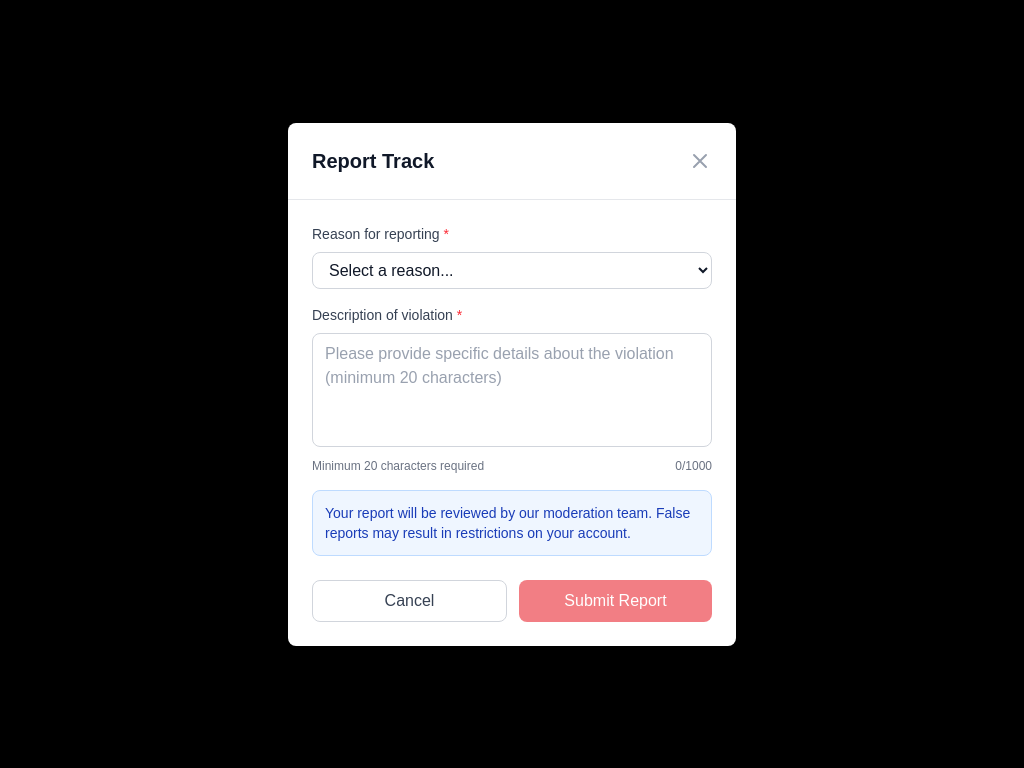
Scenario: ReportModal - Timestamp Validation › Invalid Formats › should reject invalid format (no colon)
The image size is (1024, 768).
Select hate speech
Select "Hate Speech" in the dropdown labelled "Reason for reporting *": coordinates (512, 270) [312,252,712,288]
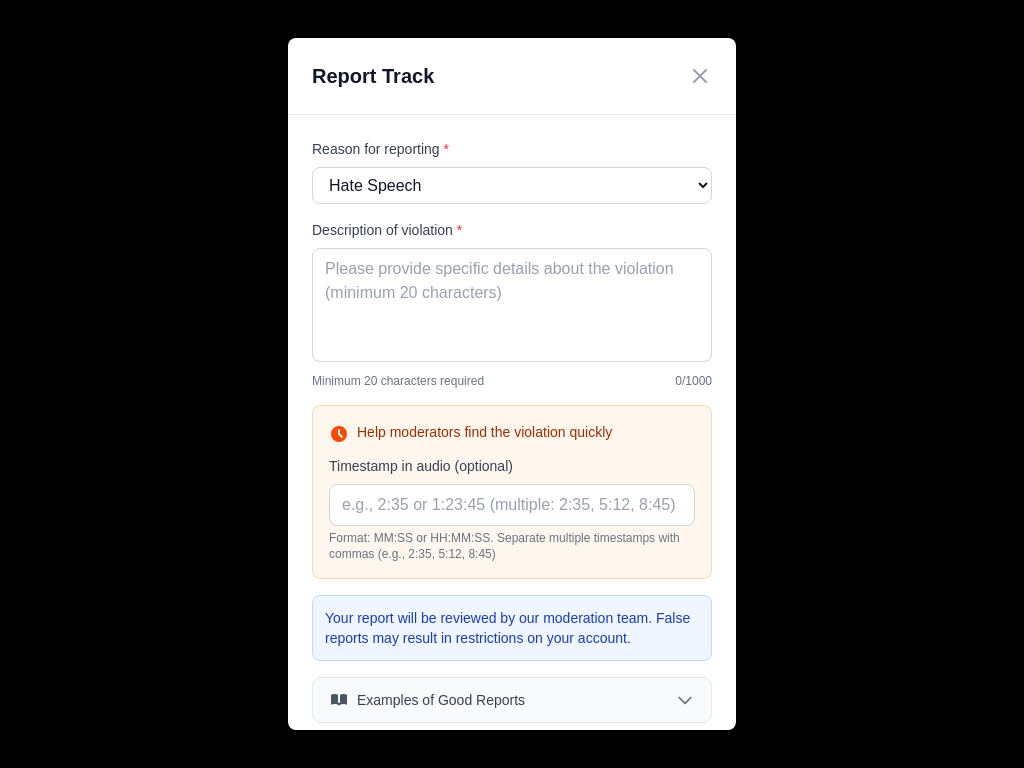
Enter invalid timestamp
In the field labelled "Timestamp in audio (optional)": coordinates (512, 505) [329,484,695,526], type "235"
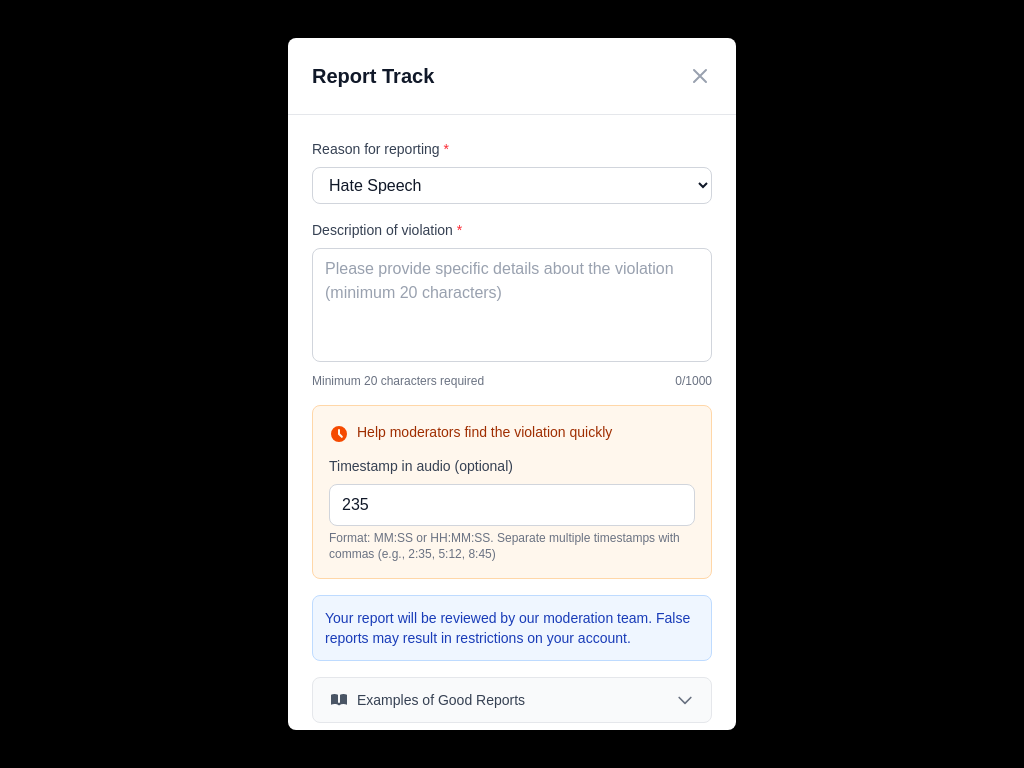
Leave the field labelled "Timestamp in audio (optional)", box [329,484,695,526]
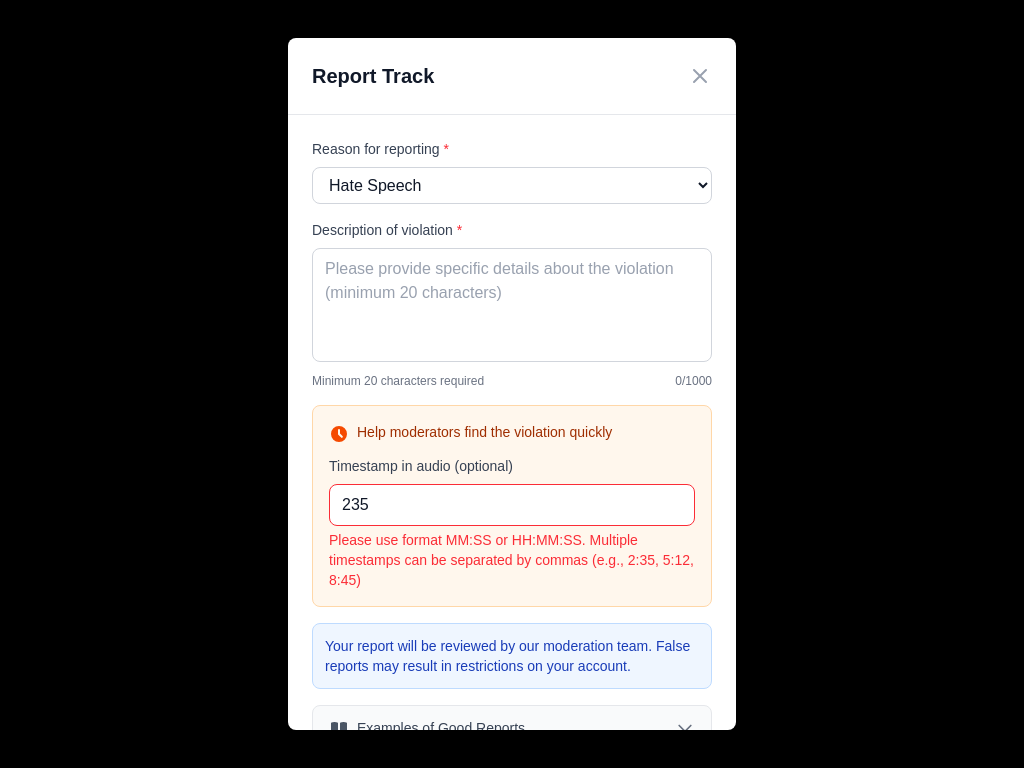
Expected: the text "Please use format MM:SS or HH:MM:SS" is shown, [329,532,694,588]
